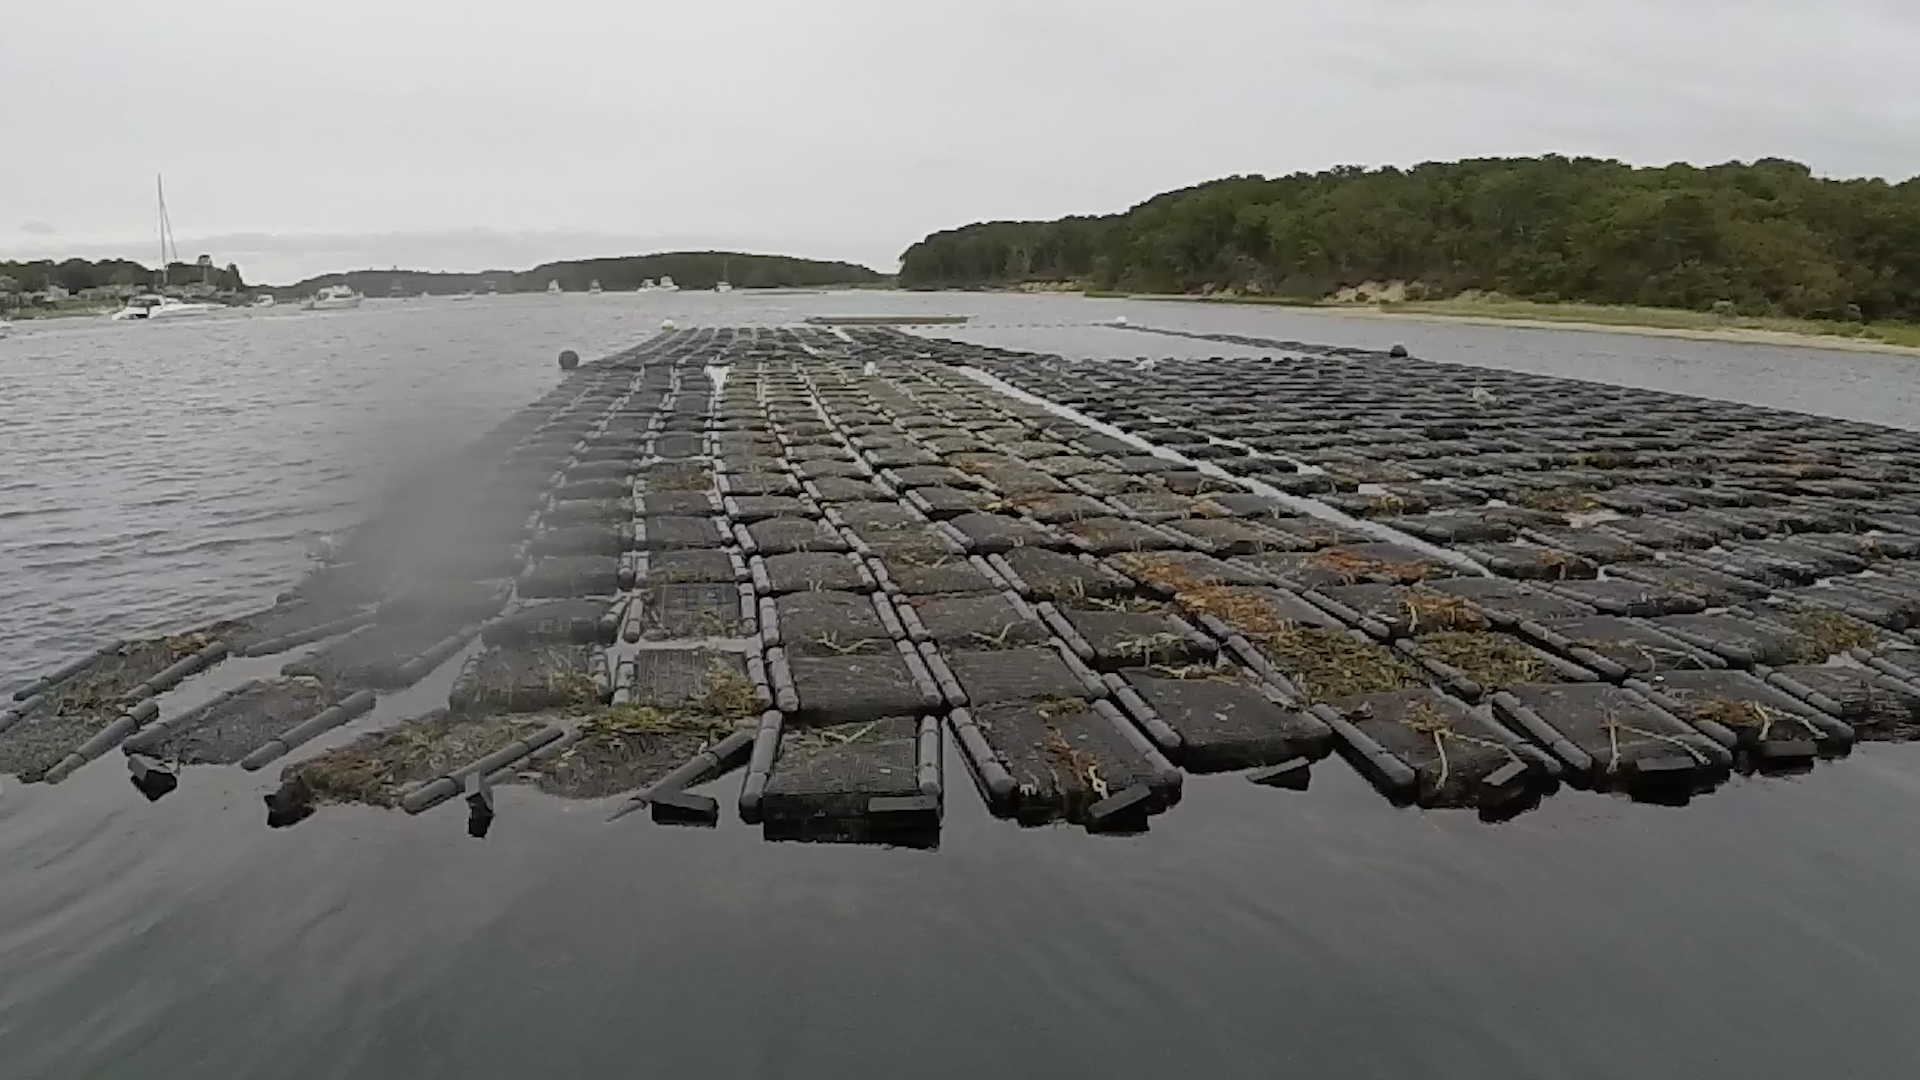bag: (1307, 688, 1567, 810), (943, 700, 1185, 816), (1095, 659, 1337, 774), (742, 708, 945, 823)
